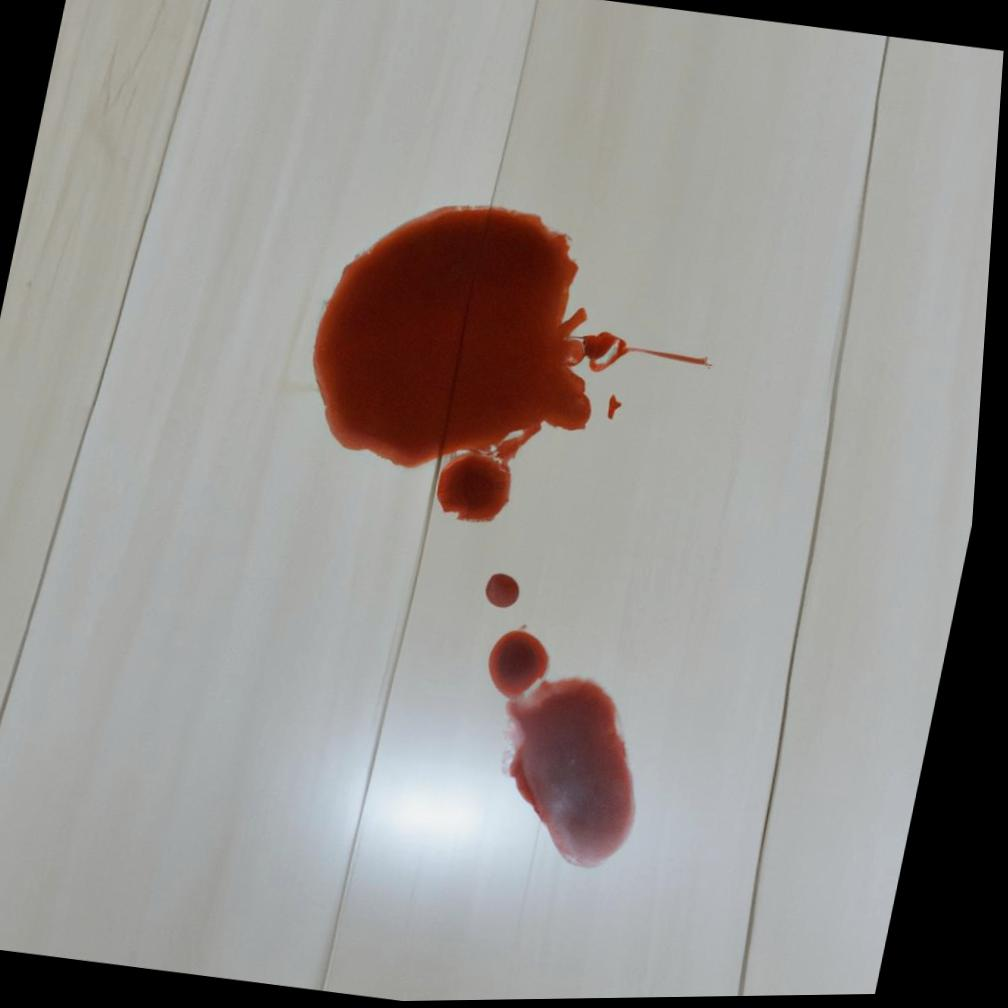Fire: (317, 205, 718, 525), (497, 626, 647, 871), (493, 574, 528, 609)
